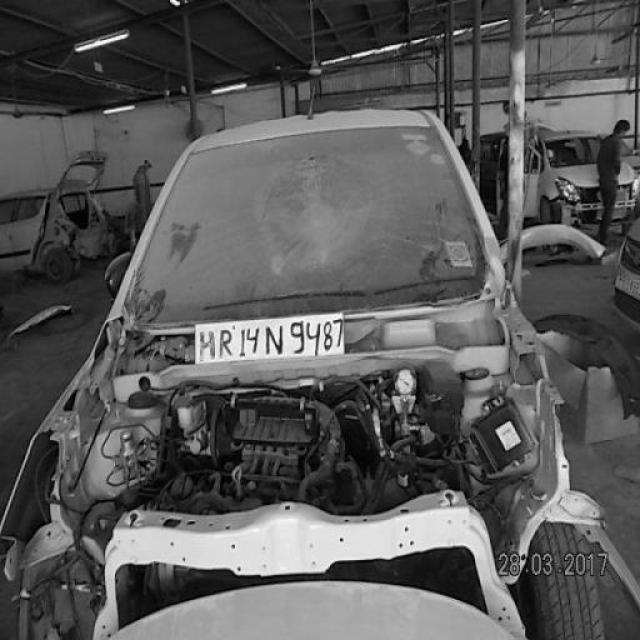crack: (260, 152, 387, 266)
crush: (0, 294, 613, 640)
